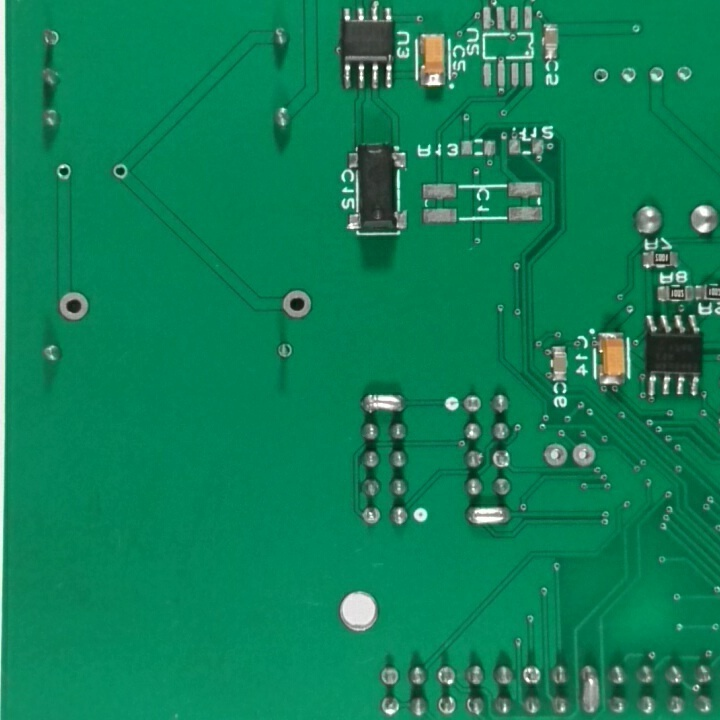F: (276, 286, 314, 321), (53, 288, 91, 320), (569, 440, 598, 471), (541, 440, 569, 468), (519, 660, 544, 690), (487, 446, 514, 470), (458, 393, 487, 415), (359, 505, 384, 530), (433, 692, 458, 716), (106, 160, 131, 183), (619, 63, 641, 88), (378, 695, 403, 716), (674, 63, 696, 86), (274, 341, 295, 365), (40, 28, 62, 50), (593, 63, 611, 89), (53, 162, 74, 182), (648, 64, 667, 86)
P: (576, 659, 603, 718), (356, 389, 406, 418), (464, 499, 510, 528)
